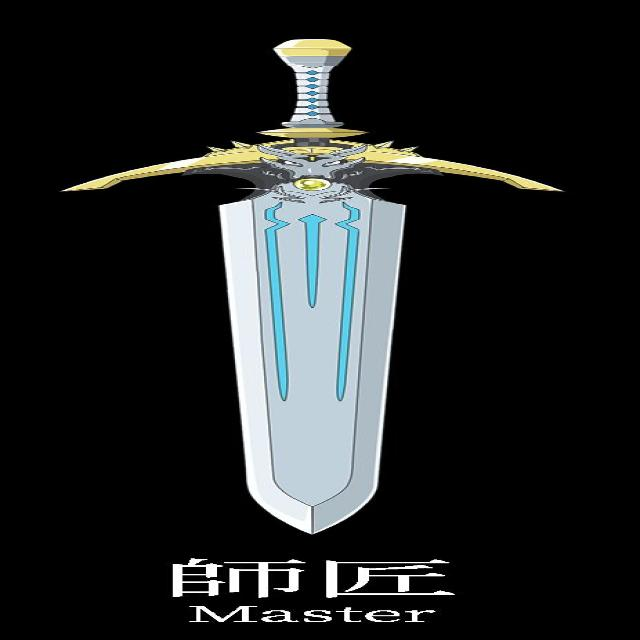weapon: (42, 34, 570, 542)
